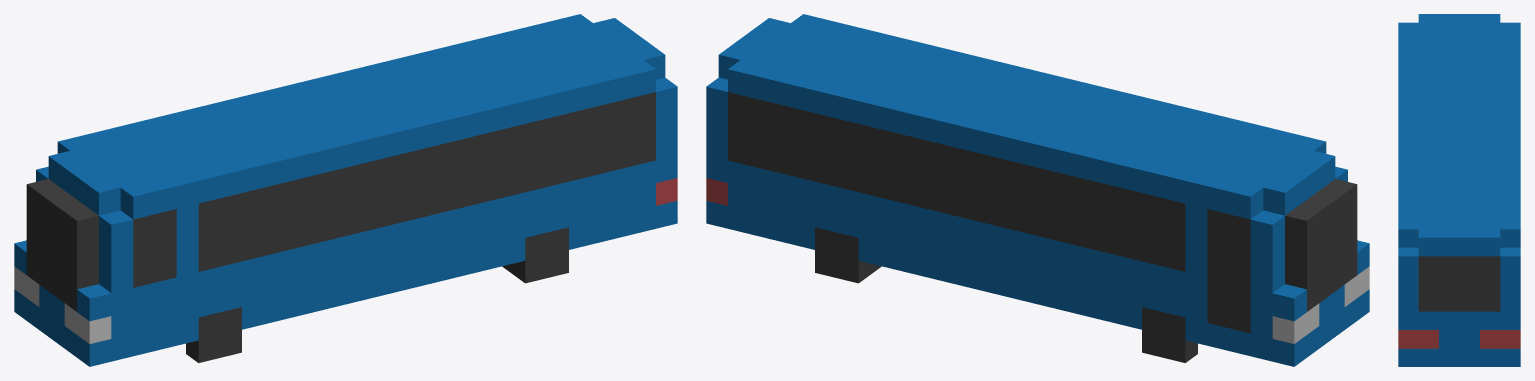
Rendered from bus-big-blue.gltf.
The picture shows the model from 3 angles, left to right: view 1: azimuth 30°, elevation 25°; view 2: azimuth 150°, elevation 25°; view 3: azimuth 270°, elevation 25°; orthographic projection. The views are drawn at different scales.
Visible parts, largest first — view 1: model, wheels; view 2: model, wheels; view 3: model.
Boxes of the visible parts, left/top/right/bottom form: model: left=14, top=14, right=677, bottom=366; wheels: left=186, top=227, right=568, bottom=362; model: left=706, top=14, right=1369, bottom=366; wheels: left=815, top=227, right=1197, bottom=362; model: left=1398, top=14, right=1520, bottom=366.
Size of the model in its own units: 2.7 by 0.8 by 0.6.
Materials: 2 (2 with a texture image).
